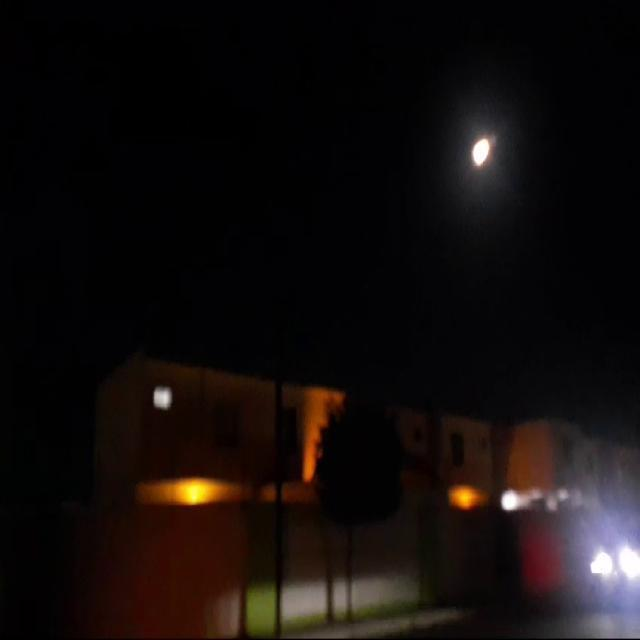moon: (475, 138, 495, 172)
